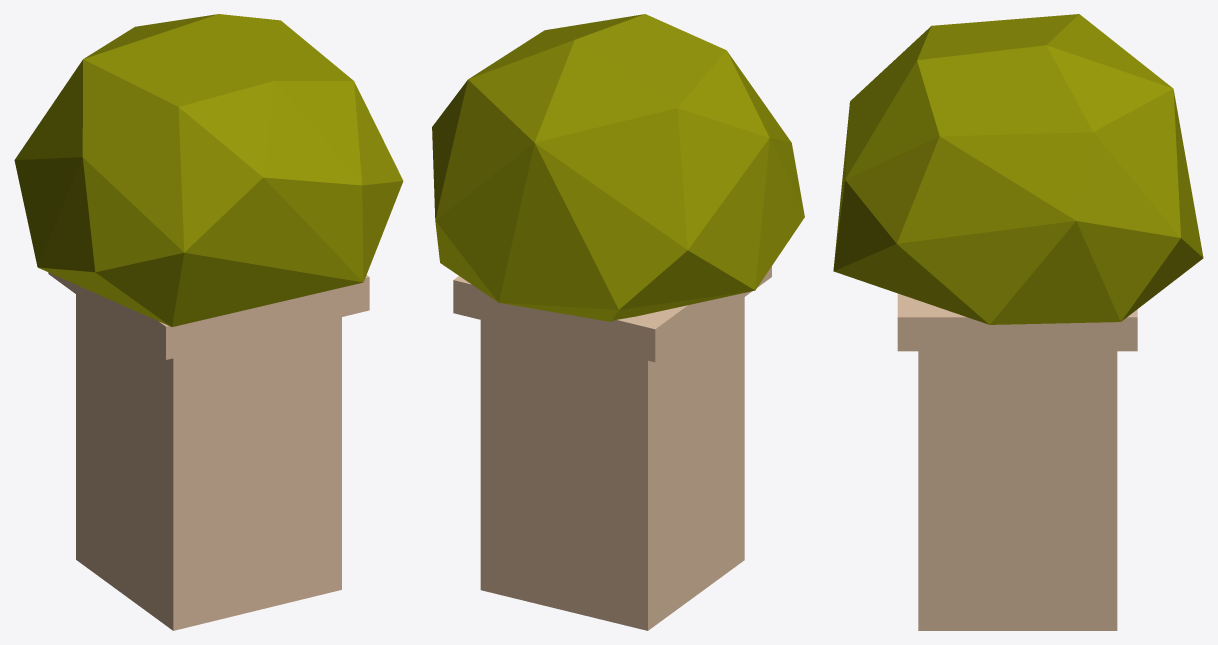
File: village_pack_pot.glb
3 renders of one model, left to right at view 1: azimuth 30°, elevation 25°; view 2: azimuth 150°, elevation 25°; view 3: azimuth 270°, elevation 25°, orthographic. The views are drawn at different scales.
Parts seen in each view (by area): view 1: pot_leaf 1_0; view 2: pot_leaf 1_0; view 3: pot_leaf 1_0.
Part boxes in pixels (x1,y1,x2,y2): pot_leaf 1_0: (14, 14, 403, 630); pot_leaf 1_0: (432, 14, 804, 630); pot_leaf 1_0: (833, 14, 1203, 630).
Bounding box in the file's own units: 1.12 × 1.85 × 1.12.
